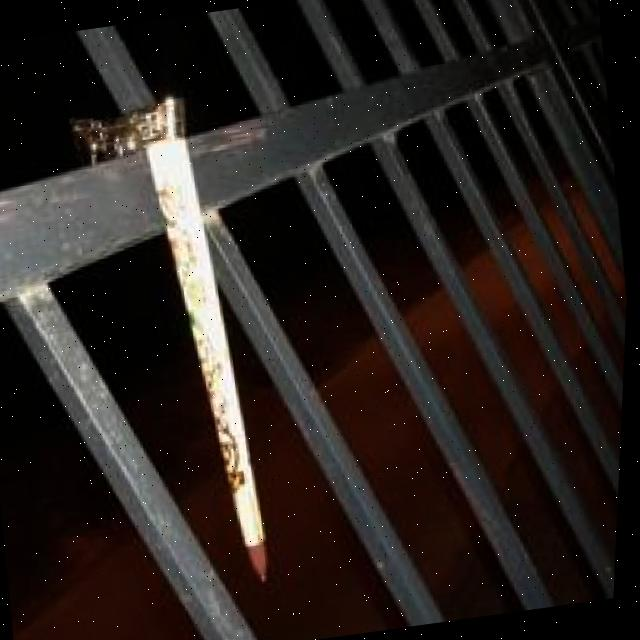pencil: (126, 91, 296, 600)
